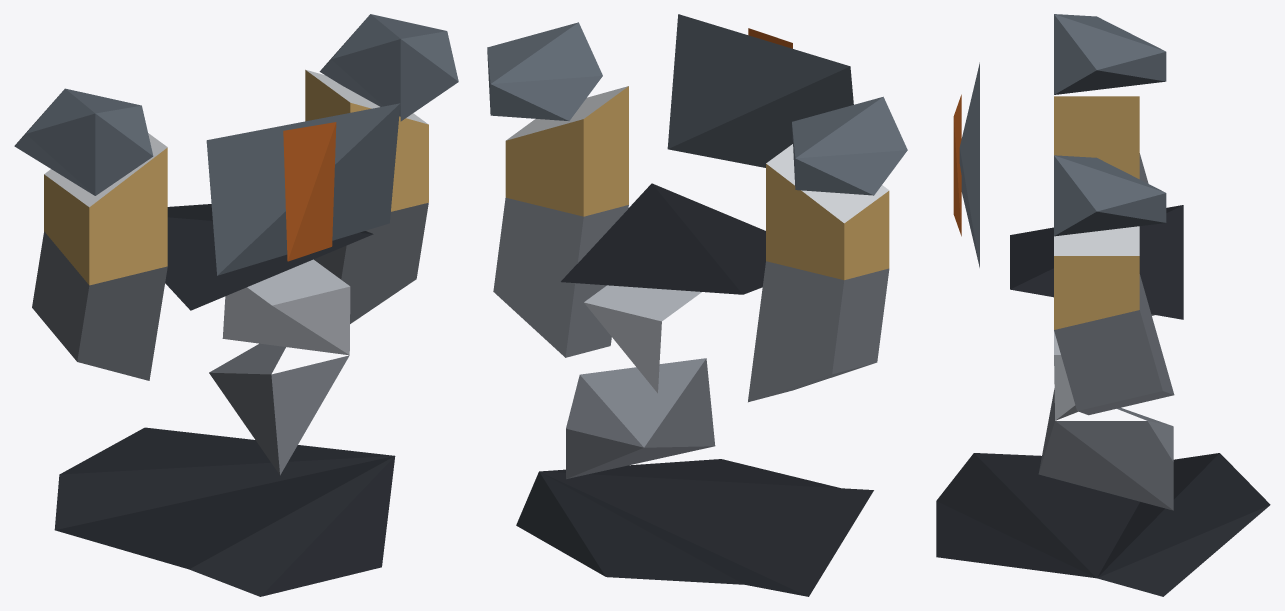
File: armour-medium.lod.glb
3 views of the same model, side by side, from view 1: azimuth 30°, elevation 25°; view 2: azimuth 150°, elevation 25°; view 3: azimuth 270°, elevation 25° (orthographic). The views are drawn at different scales.
Visible parts, largest first — view 1: armour-medium; view 2: armour-medium; view 3: armour-medium.
Boxes of the visible parts, bbox=[...] form: armour-medium: bbox=[14, 14, 458, 596]; armour-medium: bbox=[487, 14, 907, 596]; armour-medium: bbox=[936, 14, 1270, 596].
Size of the model in its own units: 0.6902 by 0.7247 by 0.5002.
